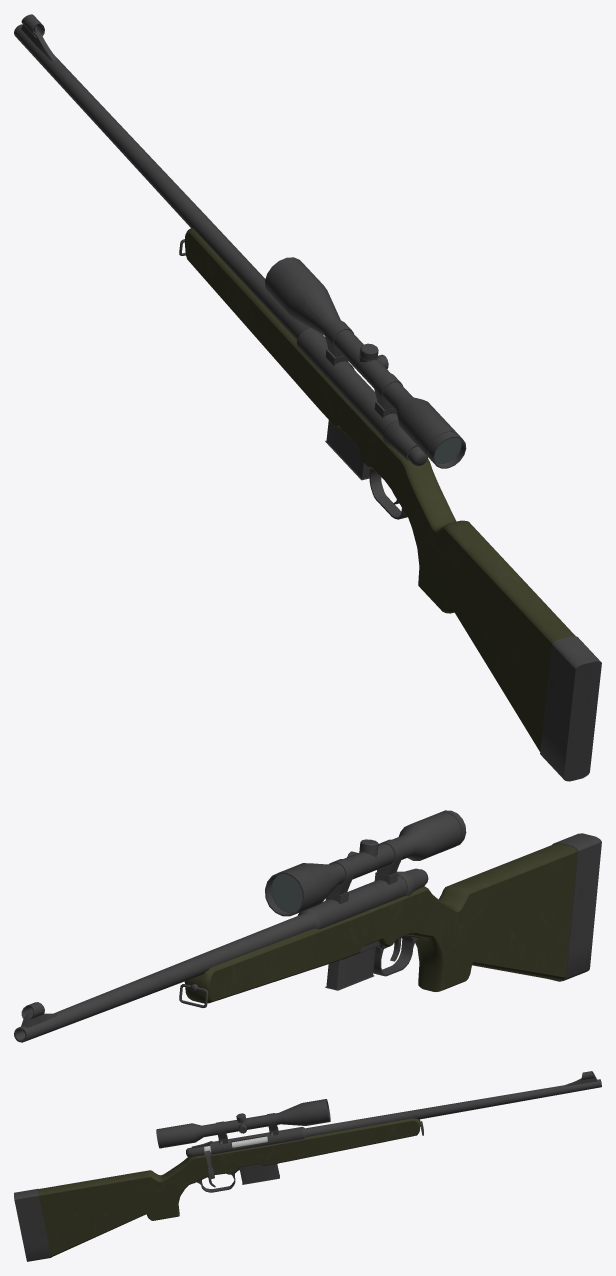
The model's file is sniper.glb.
The picture shows the model from 3 angles, top to bottom: view 1: azimuth 30°, elevation 25°; view 2: azimuth 150°, elevation 25°; view 3: azimuth 270°, elevation 25°; orthographic projection. The views are drawn at different scales.
Parts seen in each view (by area): view 1: Stock, Barrel, Scope, Magazine; view 2: Stock, Barrel, Scope, Magazine, IronSight; view 3: Stock, Barrel, Scope, Magazine, Bolt.
Boxes of the visible parts, box(x1,y1,x2,y2) form: Stock: box(184, 228, 601, 781); Barrel: box(14, 24, 417, 519); Scope: box(265, 257, 466, 468); Magazine: box(325, 420, 369, 480); Stock: box(184, 833, 601, 1003); Barrel: box(14, 868, 425, 1042); Scope: box(265, 810, 466, 916); Magazine: box(325, 947, 375, 990); IronSight: box(21, 1002, 57, 1027); Stock: box(14, 1118, 420, 1261); Barrel: box(191, 1079, 601, 1192); Scope: box(156, 1099, 330, 1148); Magazine: box(240, 1164, 279, 1184); Bolt: box(186, 1136, 267, 1179).
Bounding box in the file's own units: 0.0568 × 0.3966 × 1.12.
1 material, 1 textured.
